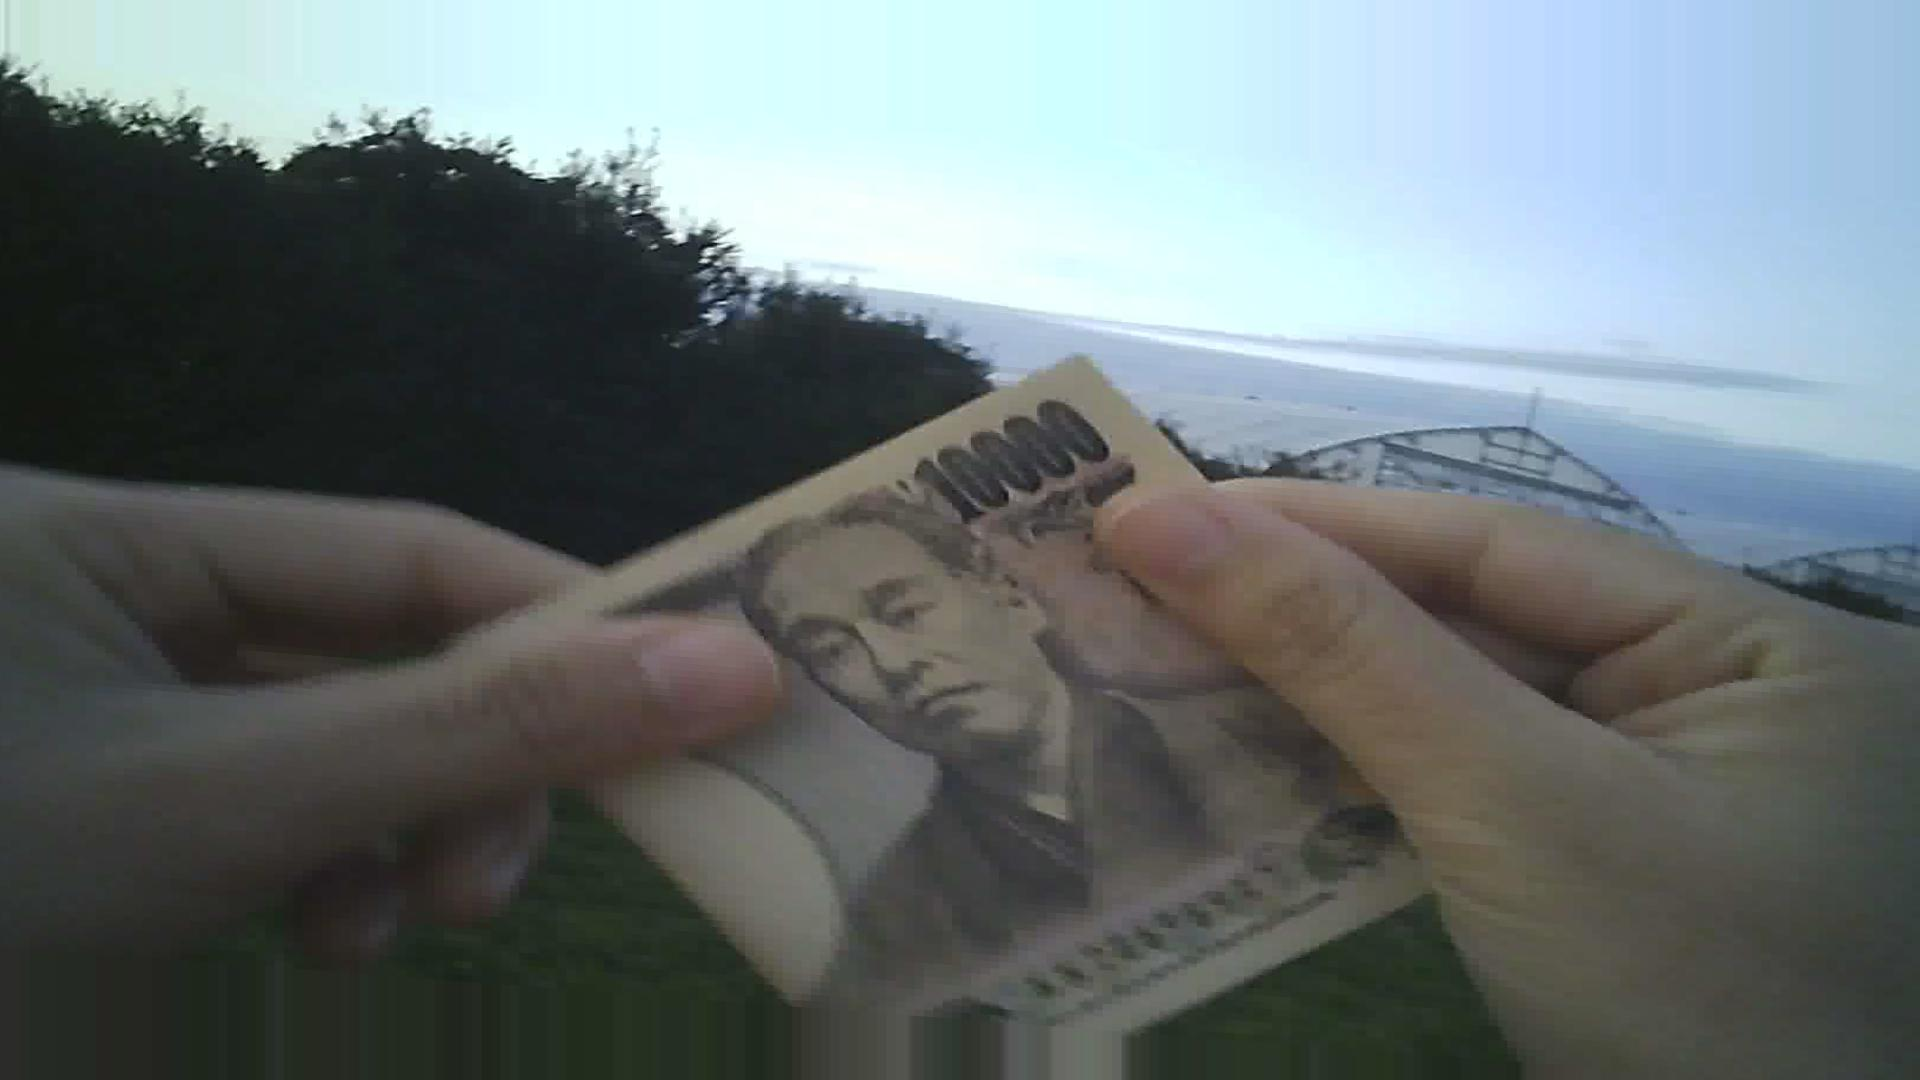10,000 Yen: (471, 372, 1455, 1015)
